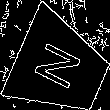N_SE: (31, 39, 90, 96)
